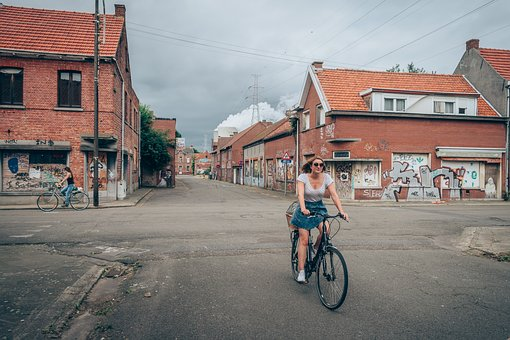bikerider: (284, 153, 356, 312), (36, 164, 93, 216)
